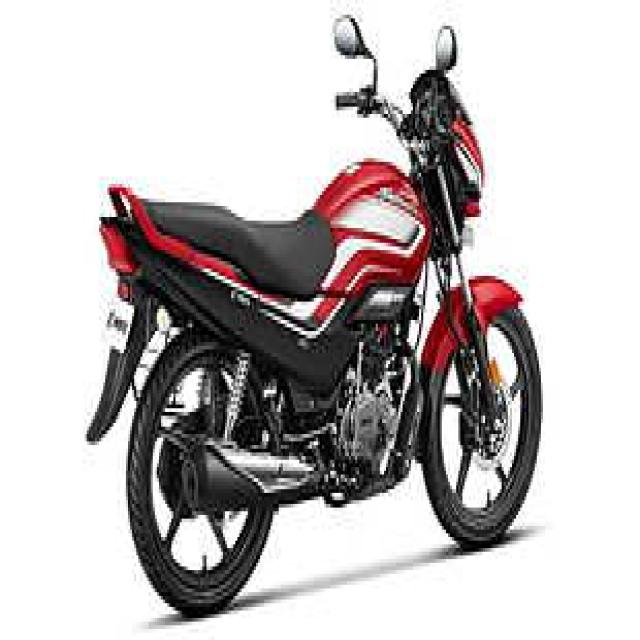Bike: (83, 15, 549, 619)
